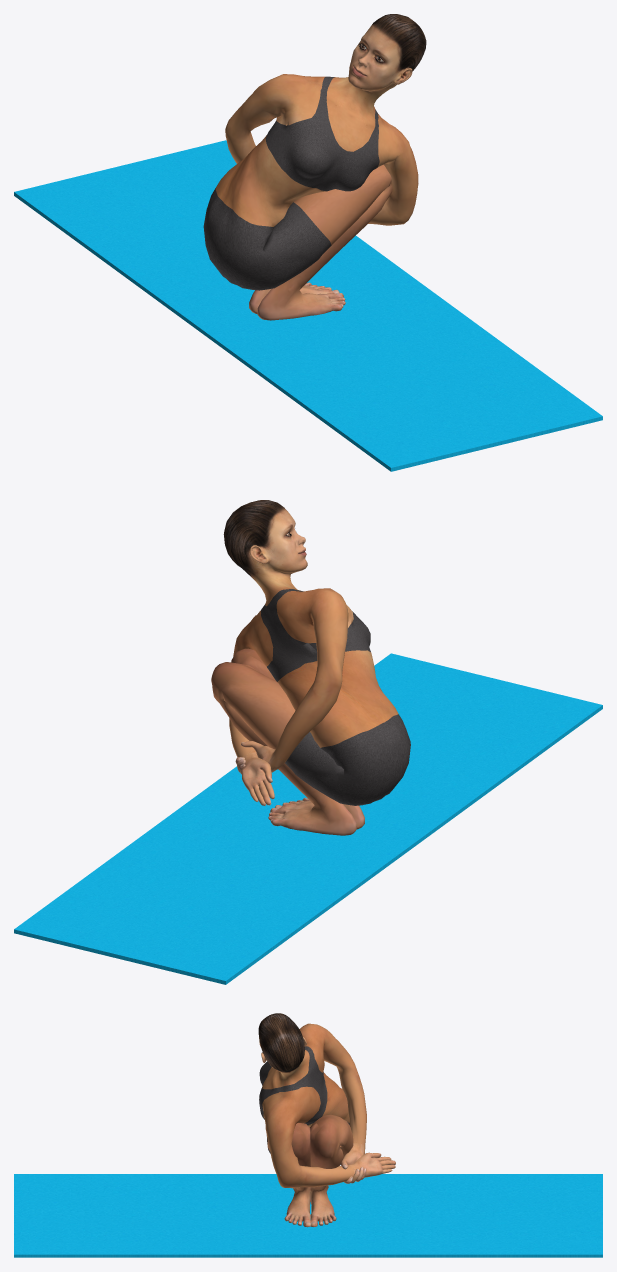
File: pasasana.glb
3 views of the same model, one above another, from view 1: azimuth 30°, elevation 25°; view 2: azimuth 150°, elevation 25°; view 3: azimuth 270°, elevation 25° (orthographic). The views are drawn at different scales.
Parts seen in each view (by area): view 1: Mat-one-piece_jpg-material, Lily_Texture01_06_2016_jpg-material; view 2: Mat-one-piece_jpg-material, Lily_Texture01_06_2016_jpg-material; view 3: Mat-one-piece_jpg-material, Lily_Texture01_06_2016_jpg-material.
Boxes of the visible parts, left/top/right/bottom form: Mat-one-piece_jpg-material: left=14, top=140, right=602, bottom=471; Lily_Texture01_06_2016_jpg-material: left=203, top=14, right=426, bottom=320; Mat-one-piece_jpg-material: left=14, top=653, right=602, bottom=984; Lily_Texture01_06_2016_jpg-material: left=211, top=500, right=410, bottom=835; Mat-one-piece_jpg-material: left=14, top=1174, right=602, bottom=1257; Lily_Texture01_06_2016_jpg-material: left=258, top=1013, right=395, bottom=1227.
Bounding box in the file's own units: 2 × 2.61 × 6.17.
Materials: 3 (2 with a texture image).
